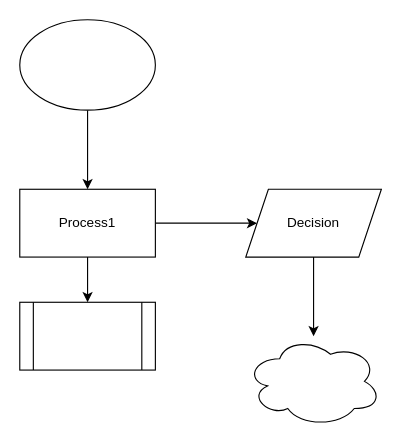
Some shapes in this 401 by 446 pixel diagram are drawn without their labels. The shapes that lost their labels are listed below. From the top down, each one's box as (x1, y1, x2, y2) in pixels, then its label:
(19, 19, 155, 110): Start
(19, 301, 155, 370): Output
